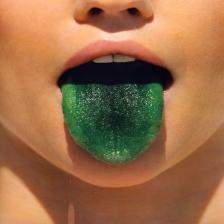green: (62, 80, 163, 168)
